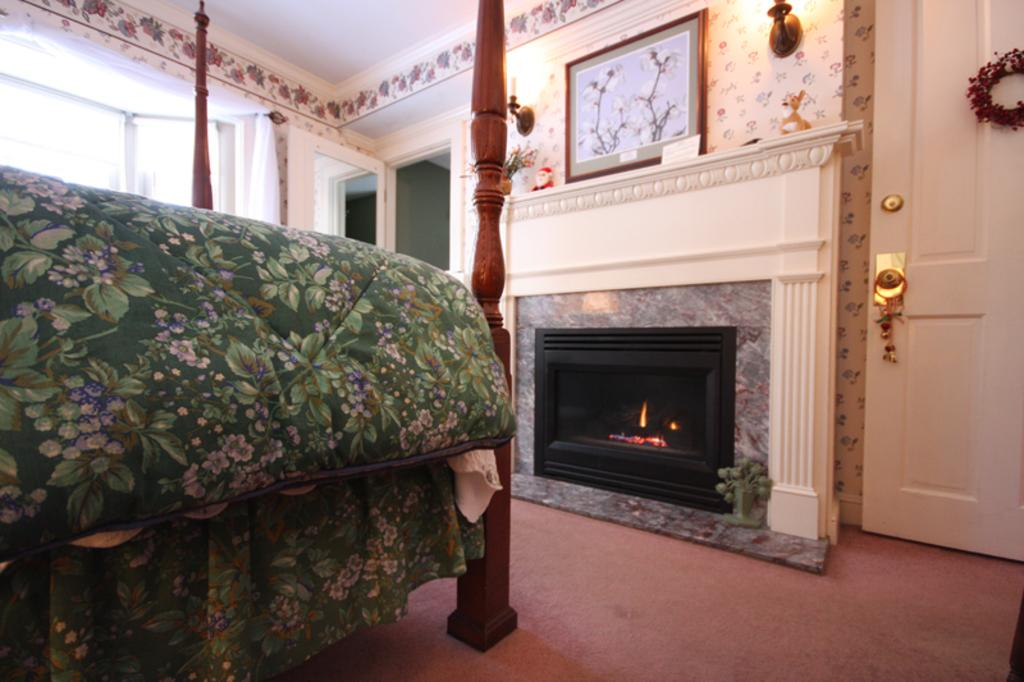Fire: (620, 398, 678, 452)
